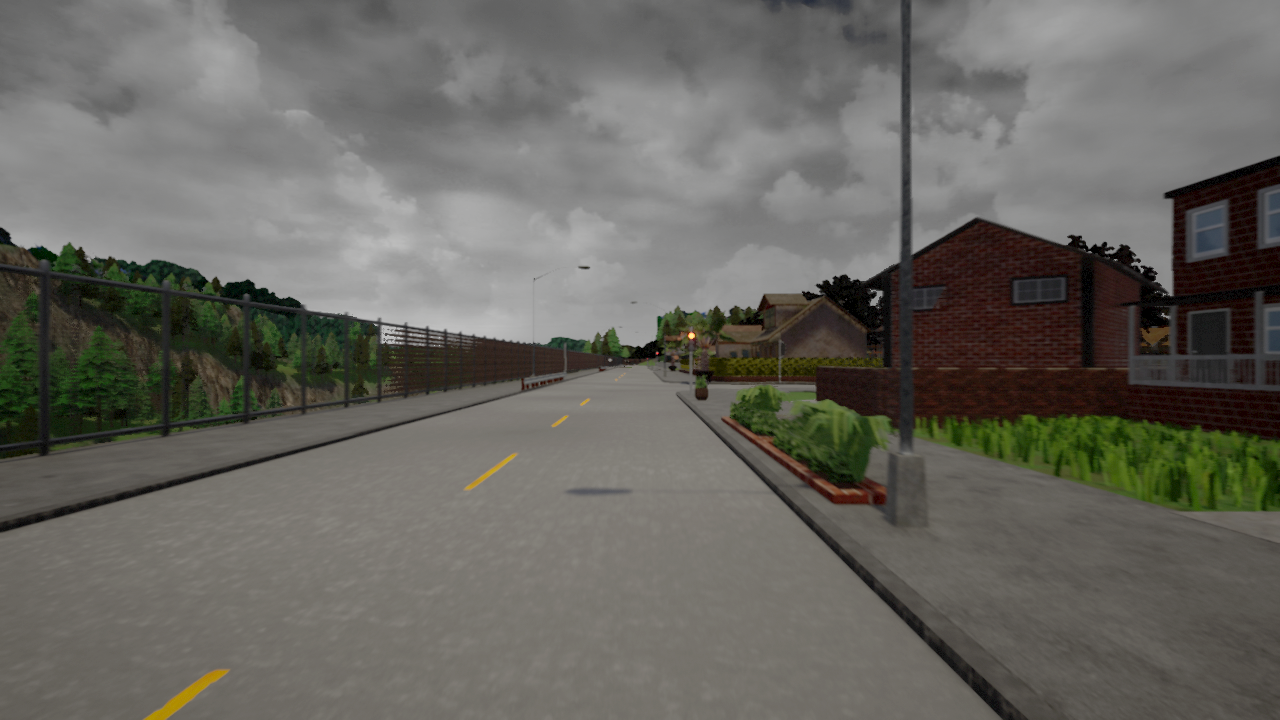red: (687, 333, 695, 351)
